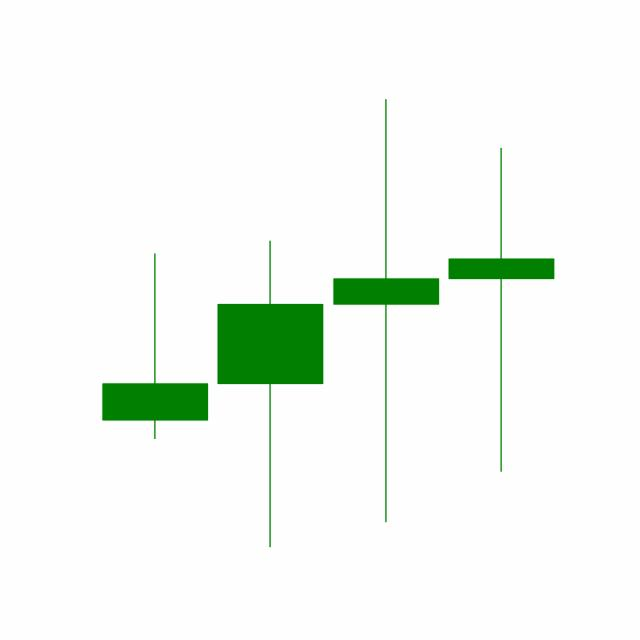Spinning Top: (328, 93, 444, 527)
